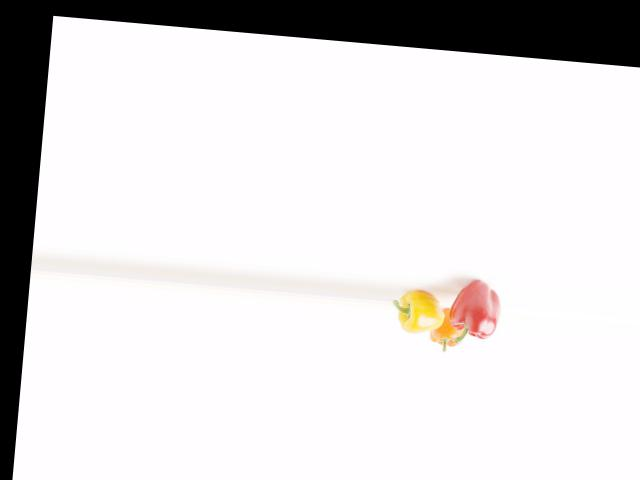bell_pepper: (444, 271, 504, 353)
